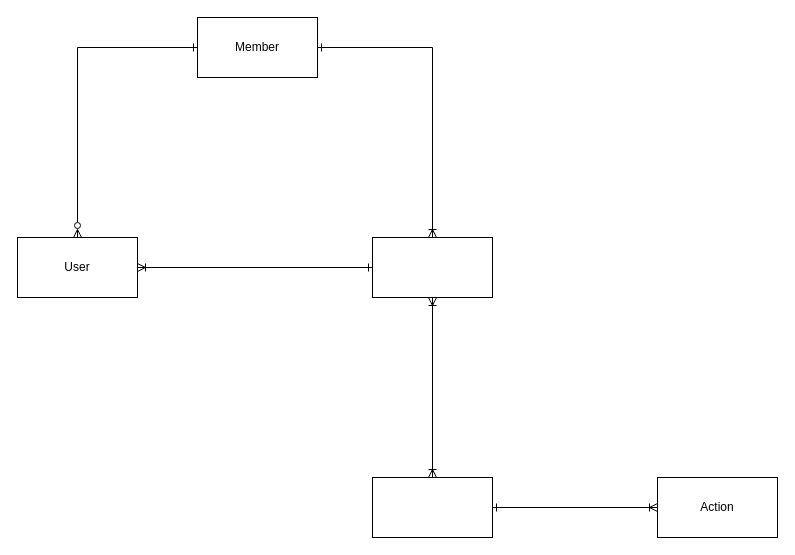
This 795x555 diagram has some shape labels left out. Each missing label, with the centre of its shape:
"Function" belongs at (x=432, y=507).
"Roles" belongs at (x=432, y=267).
